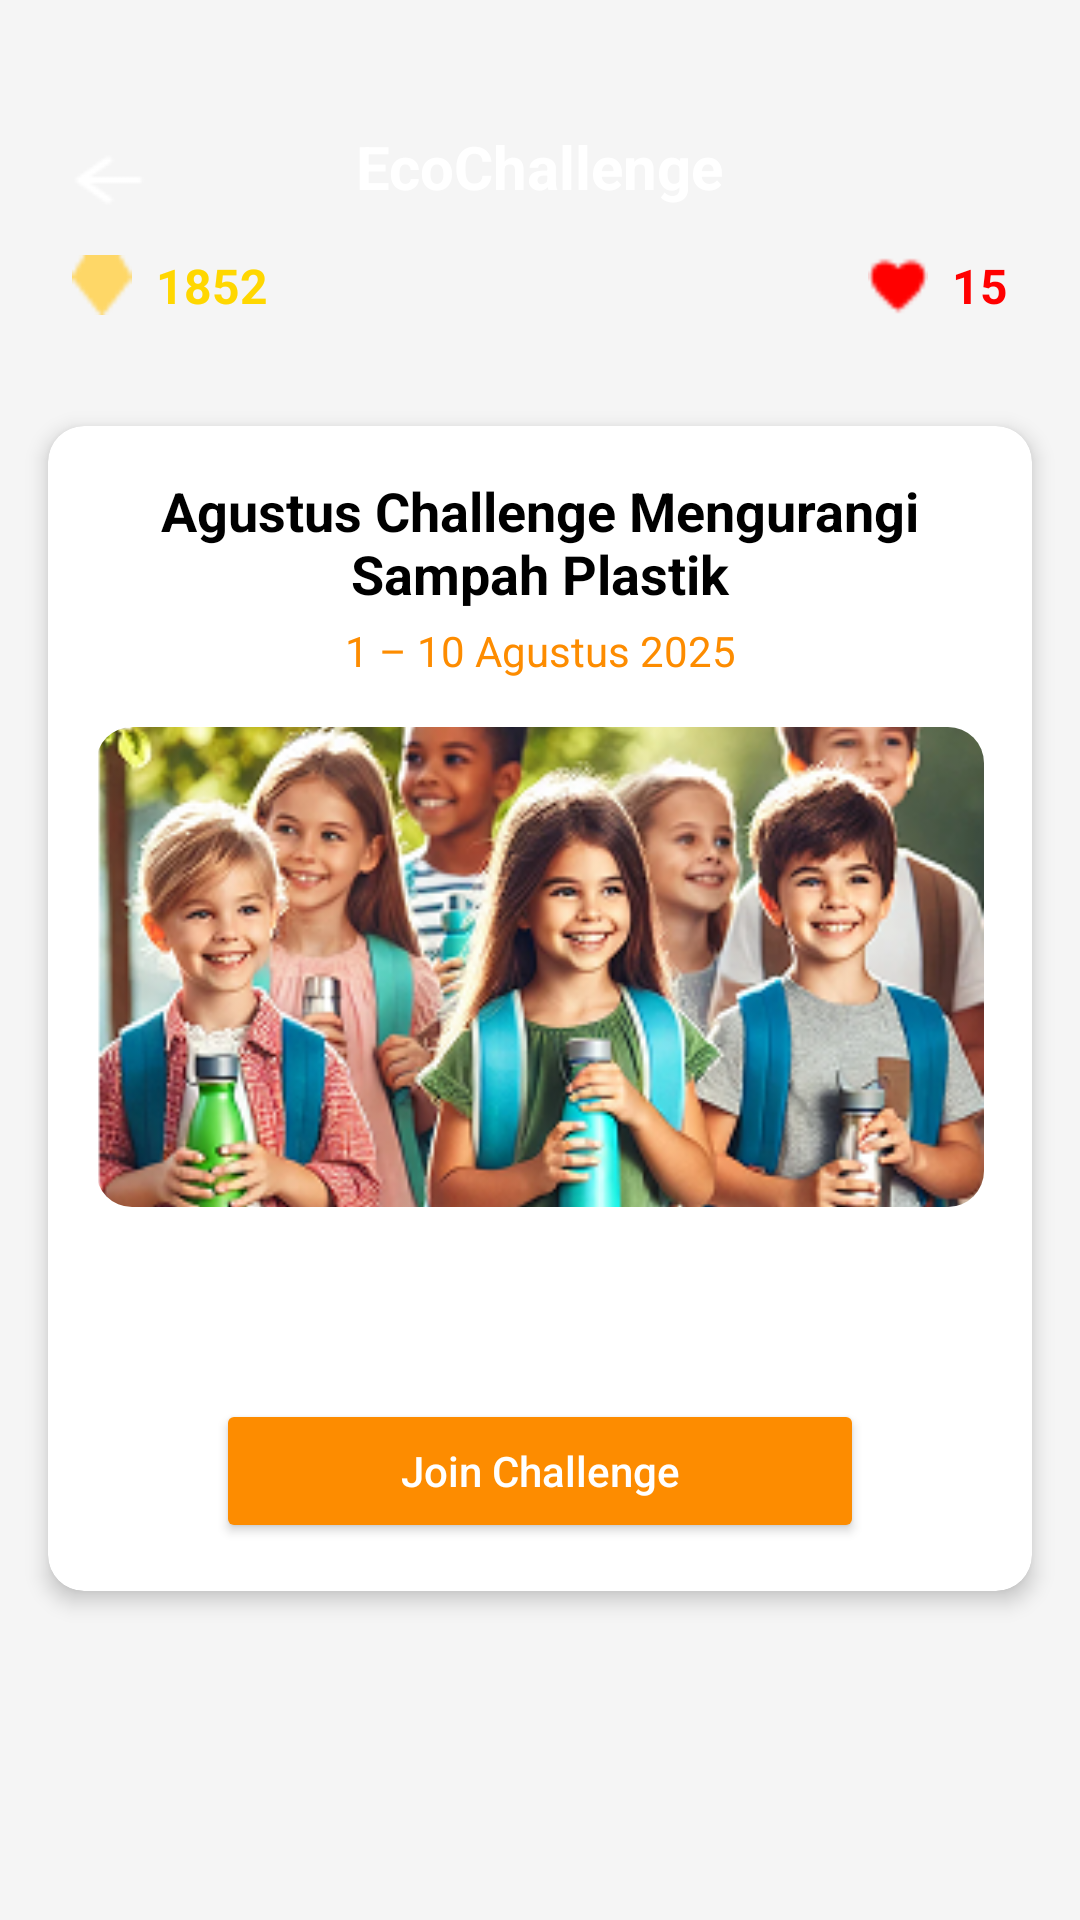

Point at icon controls on the screen. Image size 1080 × 1920, points as (x,y).
diamond: (102,285)
heart: (898,286)
